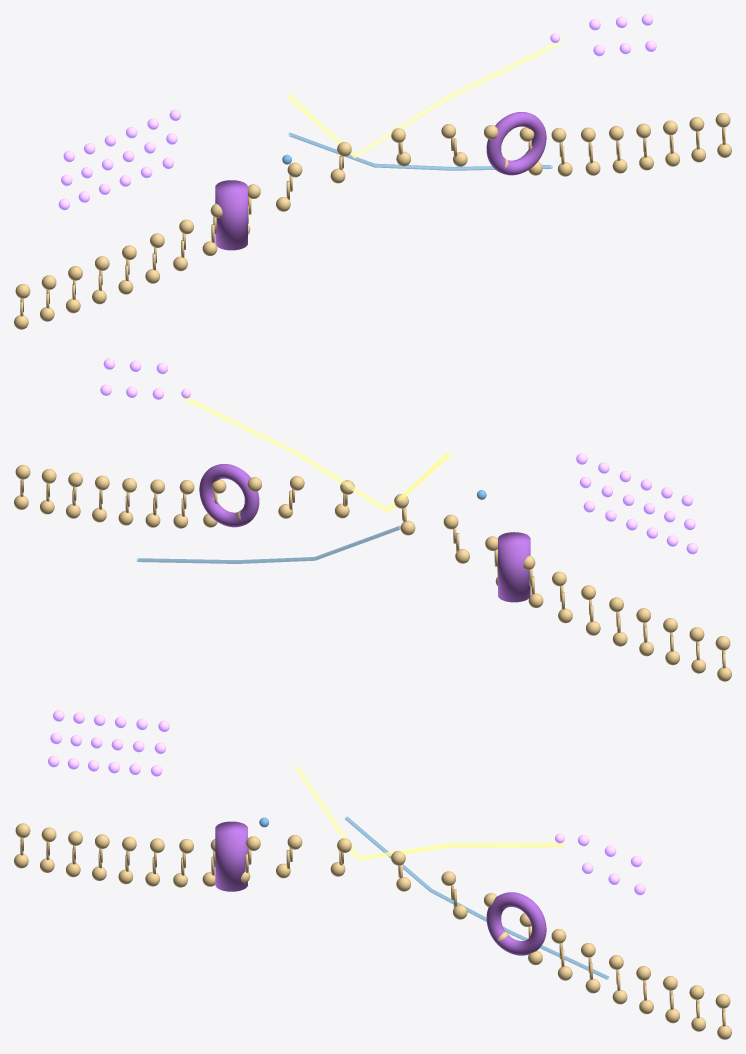
Rendered from transports_membranaires_premium.glb.
The picture shows the model from 3 angles, top to bottom: view 1: azimuth 30°, elevation 25°; view 2: azimuth 150°, elevation 25°; view 3: azimuth 330°, elevation 25°; orthographic projection.
Visible parts, largest first — view 1: PROTEIN_canal_ionique, PROTEIN_pompe_NaK_ATPase, FLOW_flux_diffusion_Fick, FLOW_osmose_eau; view 2: PROTEIN_canal_ionique, PROTEIN_pompe_NaK_ATPase, FLOW_flux_diffusion_Fick, FLOW_osmose_eau; view 3: PROTEIN_pompe_NaK_ATPase, PROTEIN_canal_ionique, FLOW_flux_diffusion_Fick, FLOW_osmose_eau.
Boxes of the visible parts, left/top/right/bottom form: PROTEIN_canal_ionique: left=215, top=180, right=247, bottom=250; PROTEIN_pompe_NaK_ATPase: left=486, top=112, right=546, bottom=175; FLOW_flux_diffusion_Fick: left=287, top=40, right=561, bottom=158; FLOW_osmose_eau: left=288, top=132, right=552, bottom=170; PROTEIN_canal_ionique: left=498, top=532, right=530, bottom=602; PROTEIN_pompe_NaK_ATPase: left=199, top=464, right=259, bottom=527; FLOW_flux_diffusion_Fick: left=181, top=396, right=450, bottom=512; FLOW_osmose_eau: left=137, top=526, right=400, bottom=563; PROTEIN_pompe_NaK_ATPase: left=486, top=892, right=546, bottom=955; PROTEIN_canal_ionique: left=215, top=821, right=247, bottom=891; FLOW_flux_diffusion_Fick: left=295, top=766, right=564, bottom=860; FLOW_osmose_eau: left=345, top=816, right=608, bottom=979.
Size of the model in its own units: 5.05 by 1.26 by 0.5255.
